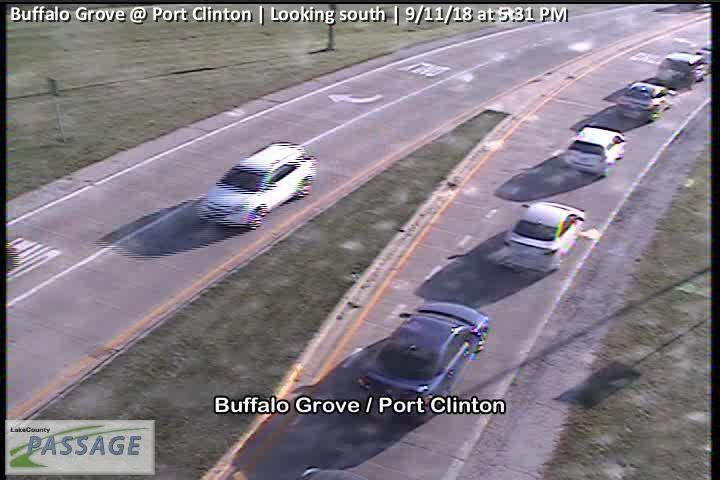SUV: (200, 143, 319, 231)
Sedan: (355, 300, 488, 420), (502, 200, 585, 275), (567, 126, 626, 175), (618, 81, 673, 120), (656, 51, 706, 87)
